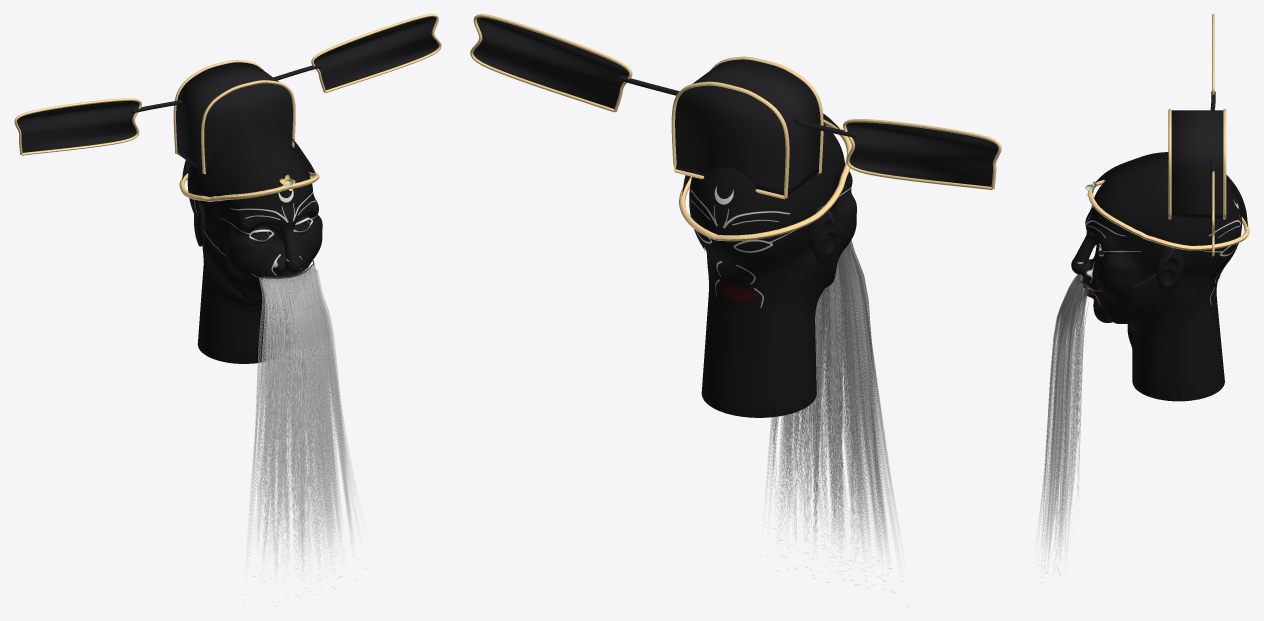
File: head_baozheng.glb
3 views of the same model, side by side, from view 1: azimuth 30°, elevation 25°; view 2: azimuth 150°, elevation 25°; view 3: azimuth 270°, elevation 25° (orthographic). The views are drawn at different scales.
Visible parts, largest first — view 1: Beard, Face, Diao_Back, Diao_Wing-1, Diao_Wing1, Diao_Gold, Diao_Rim; view 2: Face, Beard, Diao_Back, Diao_Wing-1, Diao_Wing1, Diao_Gold, Diao_Rim; view 3: Face, Beard, Diao_Back, Diao_Gold, Diao_Rim, Diao.
Part boxes in pixels (left/top/right/bottom): Beard: left=244, top=264, right=356, bottom=602; Face: left=188, top=126, right=322, bottom=363; Diao_Back: left=176, top=62, right=292, bottom=171; Diao_Wing-1: left=17, top=101, right=139, bottom=152; Diao_Wing1: left=314, top=16, right=438, bottom=90; Diao_Gold: left=14, top=14, right=441, bottom=190; Diao_Rim: left=179, top=172, right=319, bottom=201; Face: left=690, top=124, right=856, bottom=417; Beard: left=766, top=240, right=908, bottom=606; Diao_Back: left=675, top=59, right=820, bottom=195; Diao_Wing-1: left=846, top=122, right=998, bottom=186; Diao_Wing1: left=473, top=17, right=628, bottom=108; Diao_Gold: left=470, top=14, right=1001, bottom=199; Diao_Rim: left=679, top=119, right=851, bottom=241; Face: left=1071, top=157, right=1240, bottom=401; Beard: left=1039, top=274, right=1090, bottom=581; Diao_Back: left=1171, top=110, right=1222, bottom=218; Diao_Gold: left=1086, top=14, right=1226, bottom=256; Diao_Rim: left=1088, top=180, right=1249, bottom=250; Diao: left=1095, top=152, right=1247, bottom=226.
Bounding box in the file's own units: 0.6745 × 0.7104 × 0.3006.
8 materials, 3 textured.
